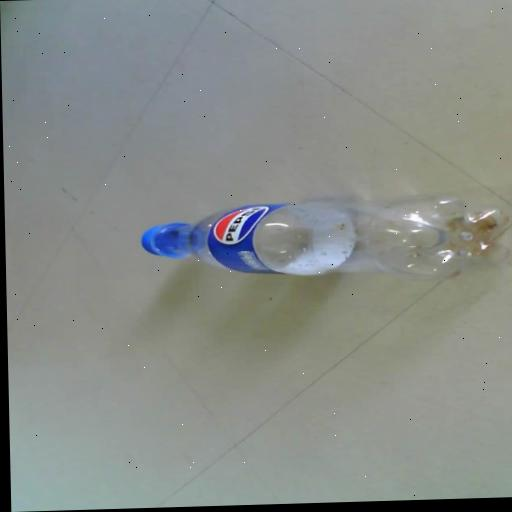ba: (144, 193, 512, 286)
